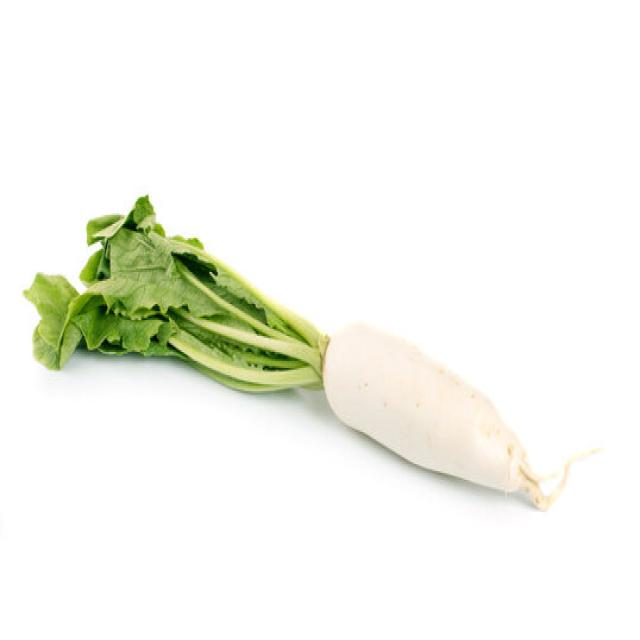Coriander Leaves: (23, 192, 327, 395)
Radish: (22, 192, 598, 512)
